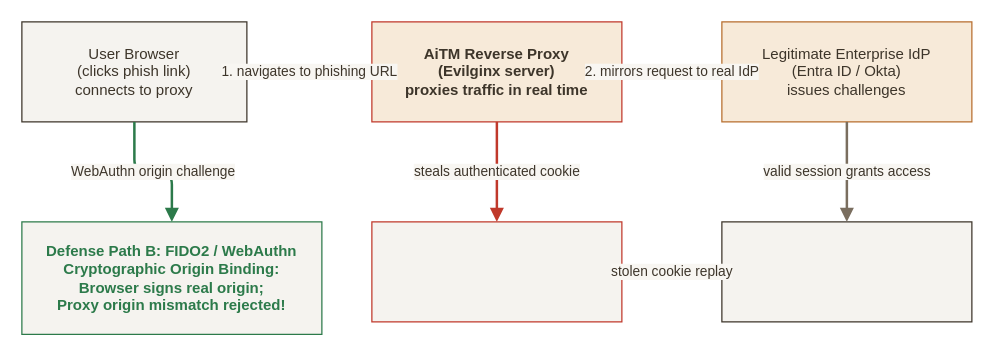
Some shapes in this 994 by 356 pixel diagram are drawn without their labels. The centre of each missing label's shape, as x and y in pixels:
Attack Path A: Legacy MFA TOTP / Push bypassed; Attacker steals session cookie: point (496, 271)
Protected Cloud Resources Zero standing sessions Continuous Access Evaluation: point (846, 271)
